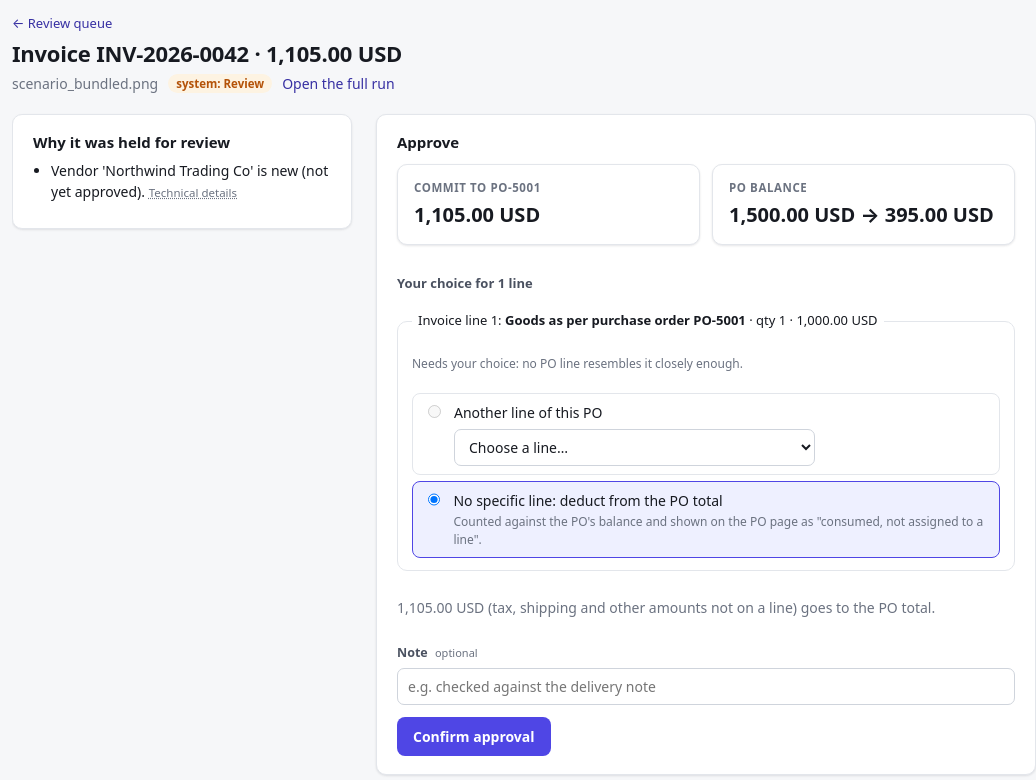
Test case: approving an item › shows the server's per-line problem on the line
Expected: the element named "Allocation for invoice line 1" is shown, [412,393,1000,558]
Click the button "Confirm approval".
click(474, 736)  # box [397,716,551,756]
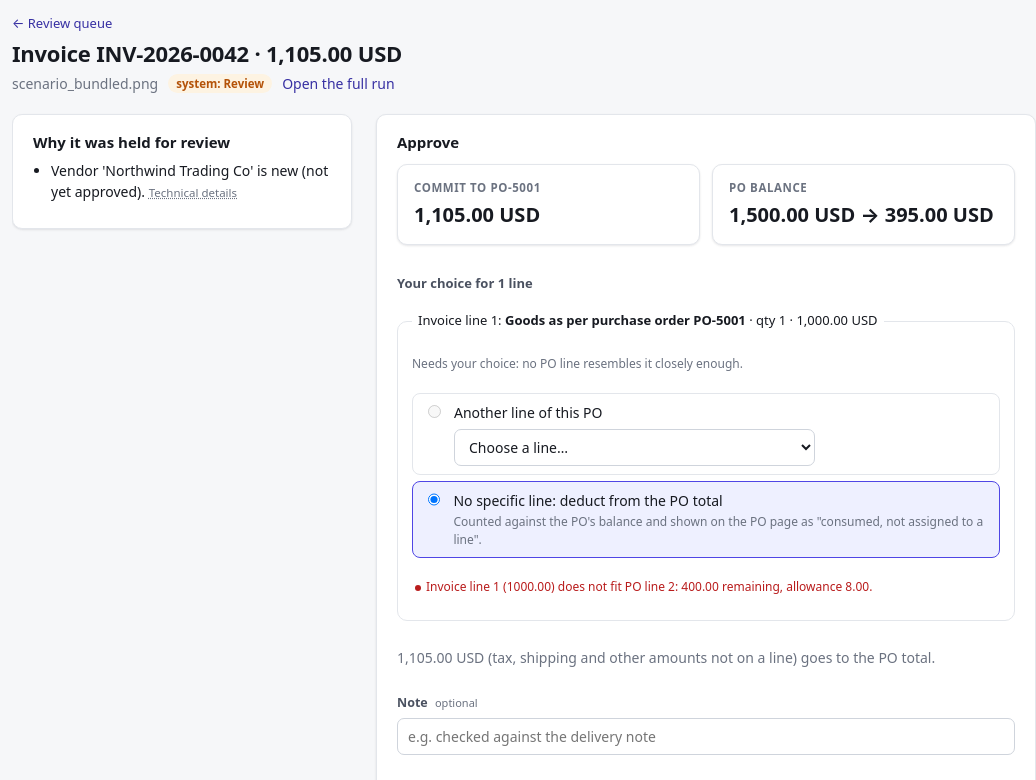
Expected: the text "Invoice line 1 (1000.00) does not fit PO line 2: 400.00 remaining, allowance 8.00." is shown, [426,578,872,595]
